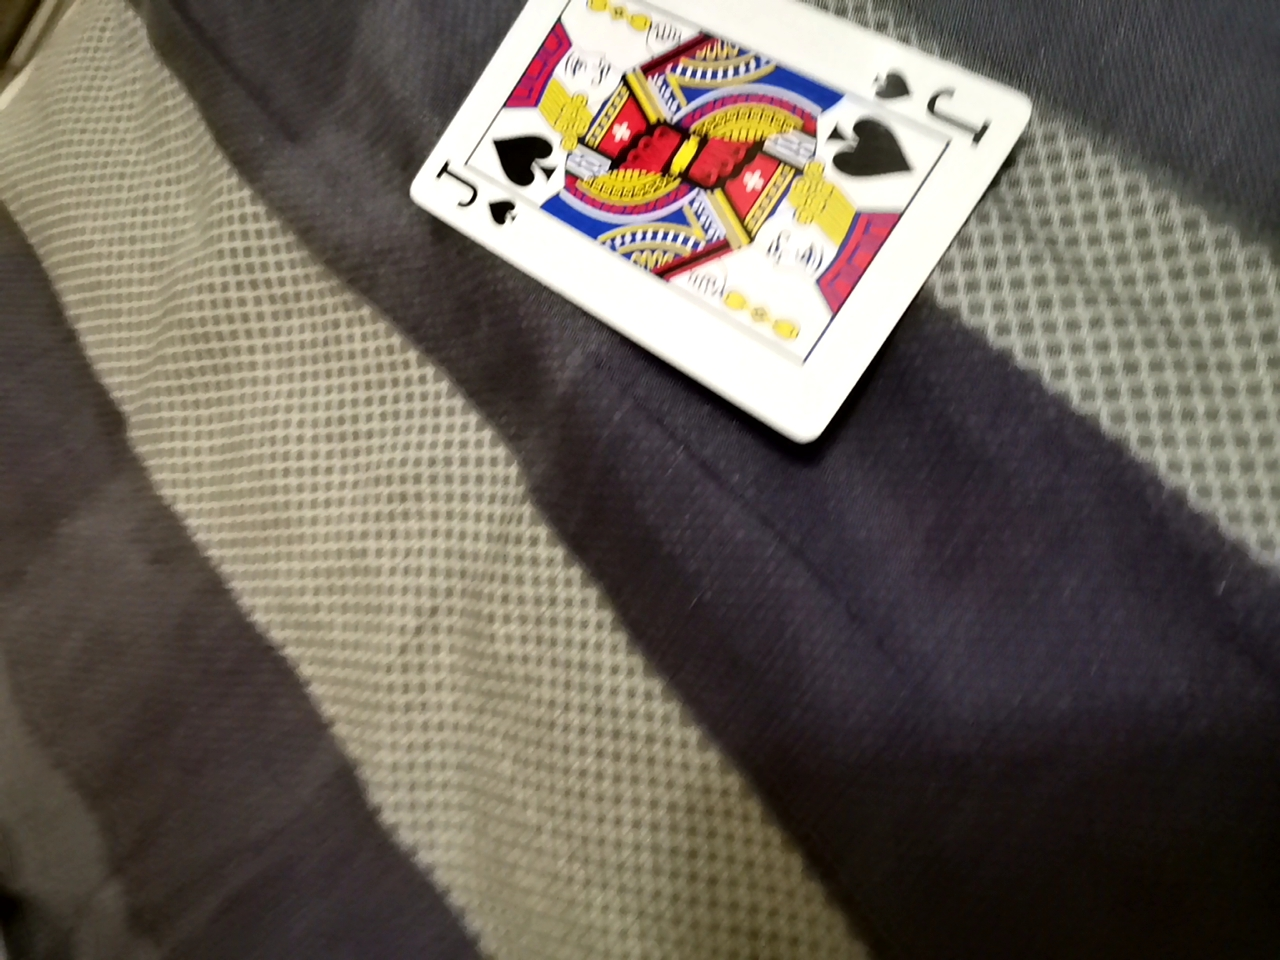ht j: (400, 0, 1026, 440)
